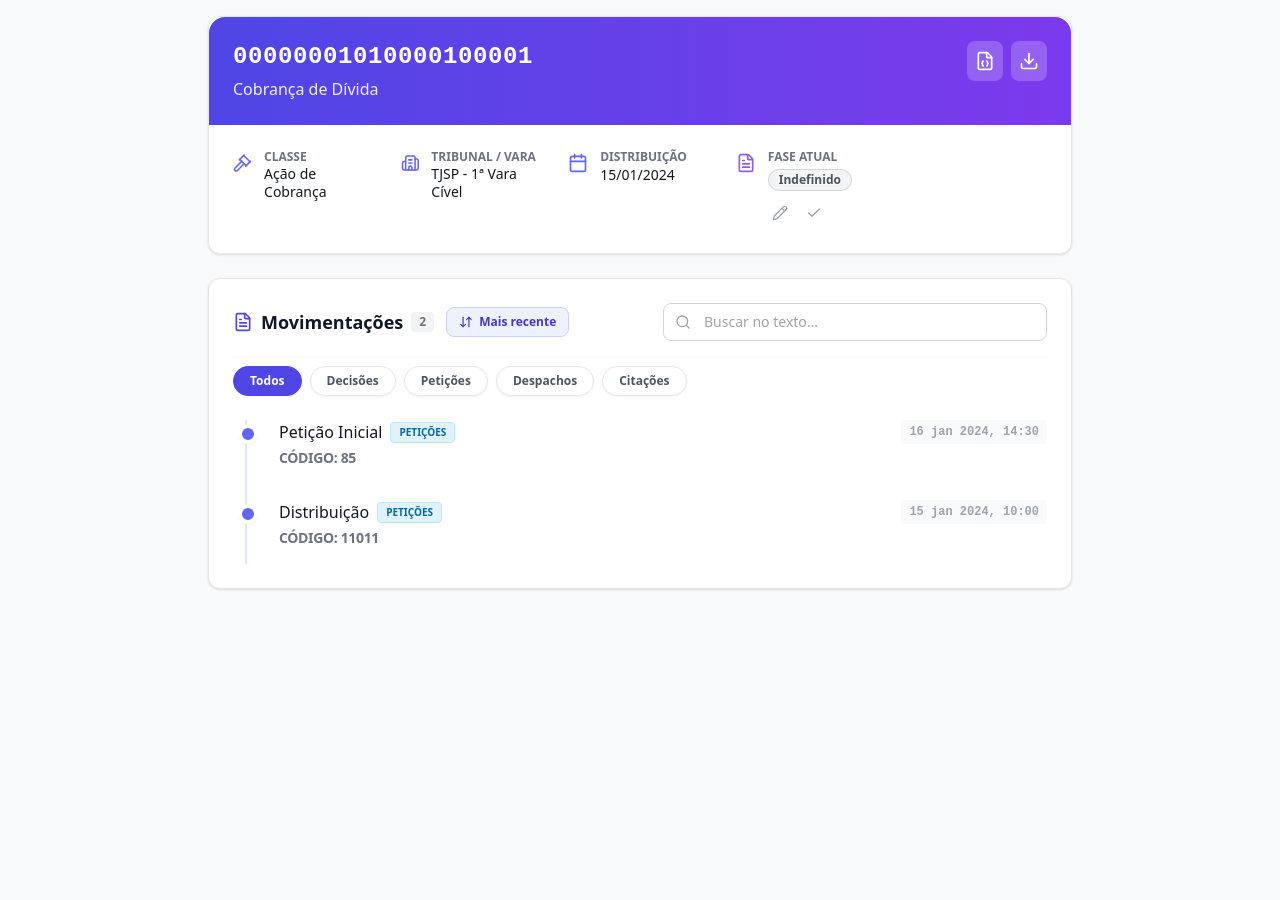
Scenario: Modal Dialog ARIA — REM-029 › JSON modal closes when ESC key is pressed
Click the button titled "Ver JSON Bruto" at (985, 61), box [967,41,1003,81]
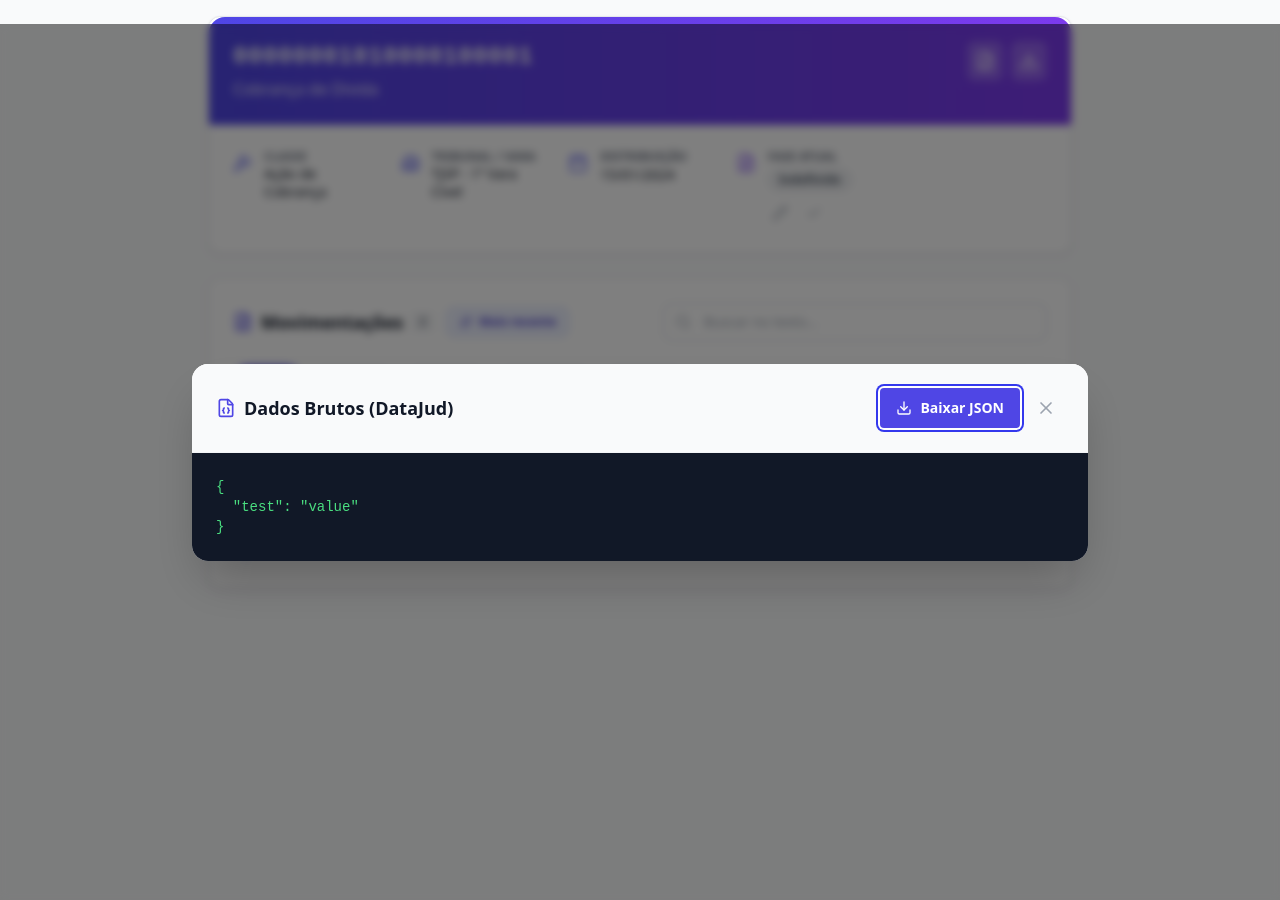
expect the dialog is shown: met, box [192,364,1088,560]
Press Escape
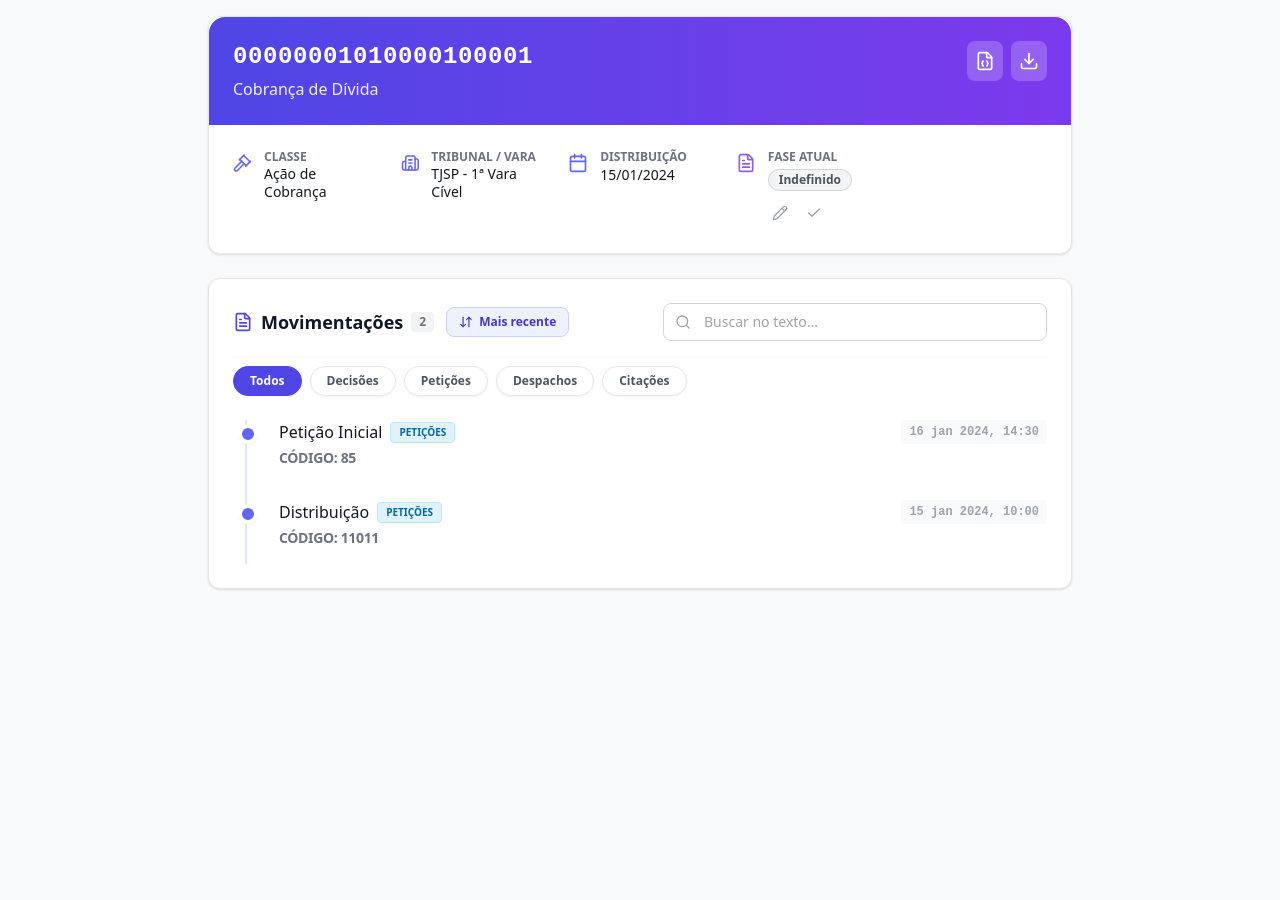
expect the dialog is gone: met
